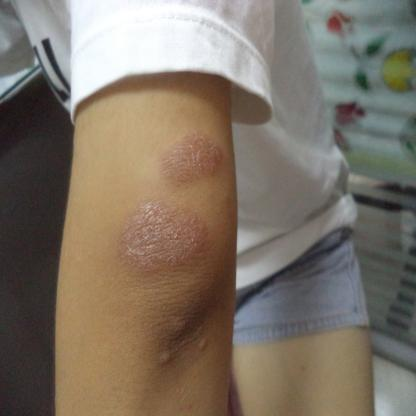Leprosy: (109, 193, 212, 284), (159, 125, 227, 193)
